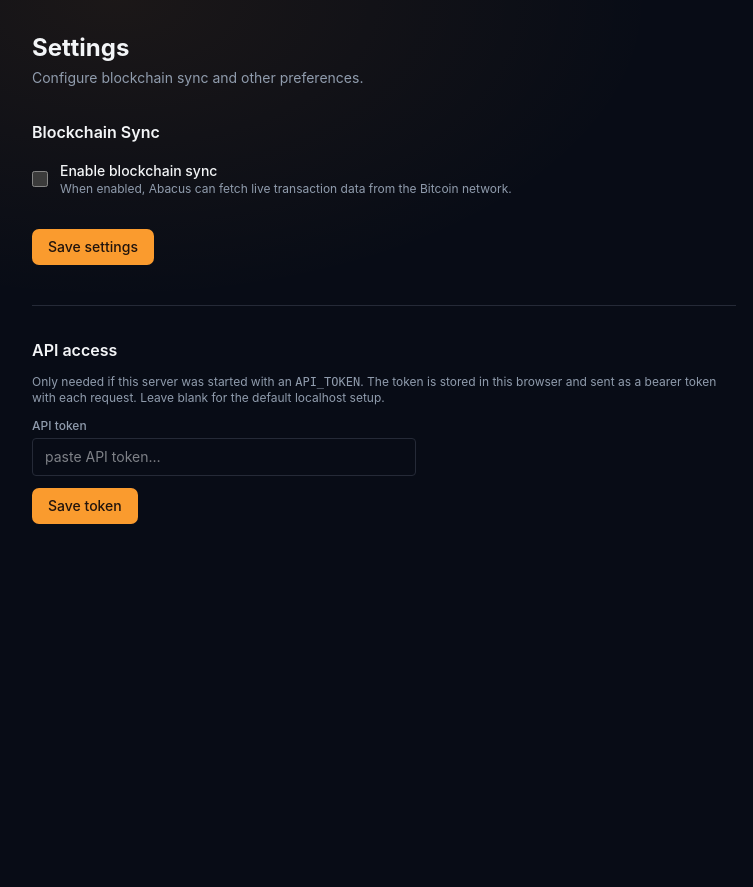
SettingsPage privacy notice › shows the address-disclosure privacy notice once sync is enabled
This screenshot has width=753, height=887.
Click the checkbox labelled "Enable blockchain sync" at (40, 178), box [32, 170, 48, 186]
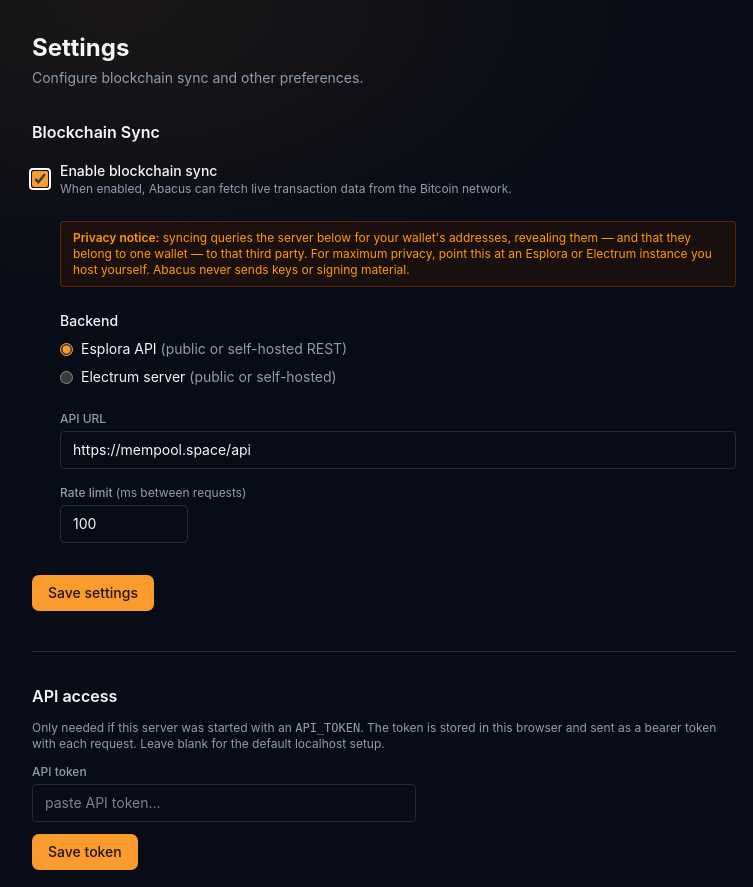
Expected: the text "syncing queries the server below" shows "addresses", [73, 230, 712, 277]
